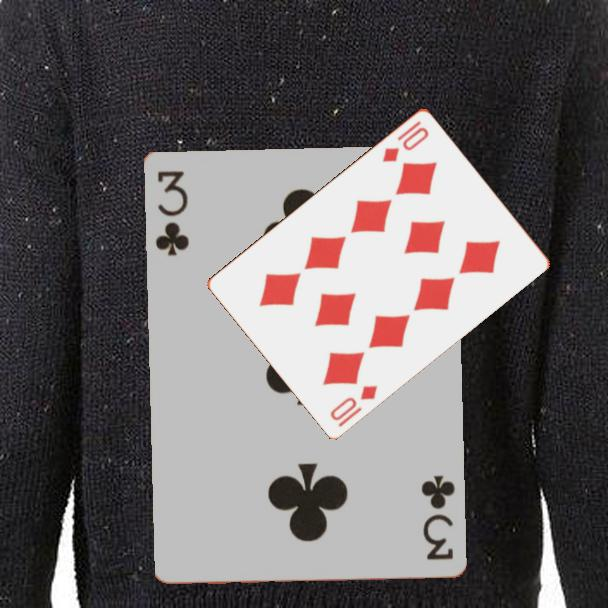c03: (151, 166, 191, 258), (418, 471, 458, 563)
d10: (327, 381, 380, 430), (379, 117, 432, 165)
